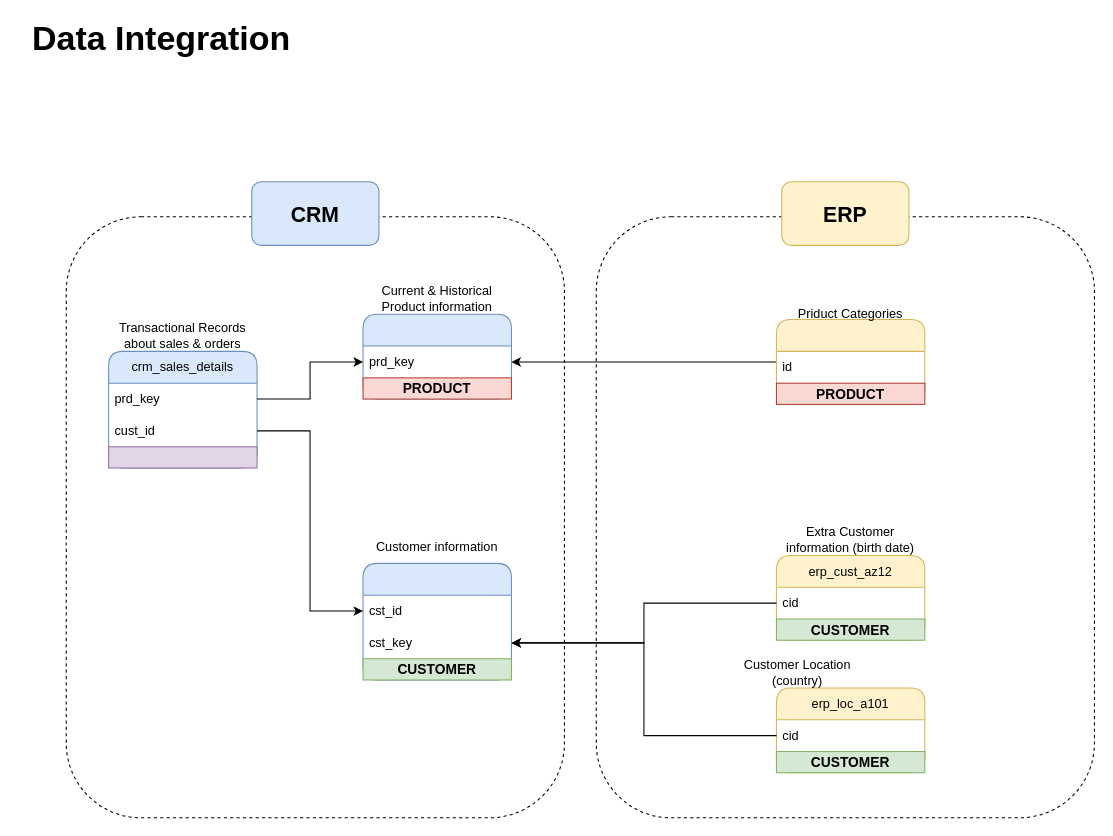
Image size: 1113x836. Some labels were removed from this diagram. The shapes that lost their labels are listed below. From the top down, each one's box as (x1, y1, x2, y2) in pixels, then its label:
(362, 313, 511, 399): crm_prd_info
(775, 319, 925, 404): erp_px_cat_g1v2
(108, 446, 257, 468): SALES
(362, 562, 511, 680): crm_cust_info
